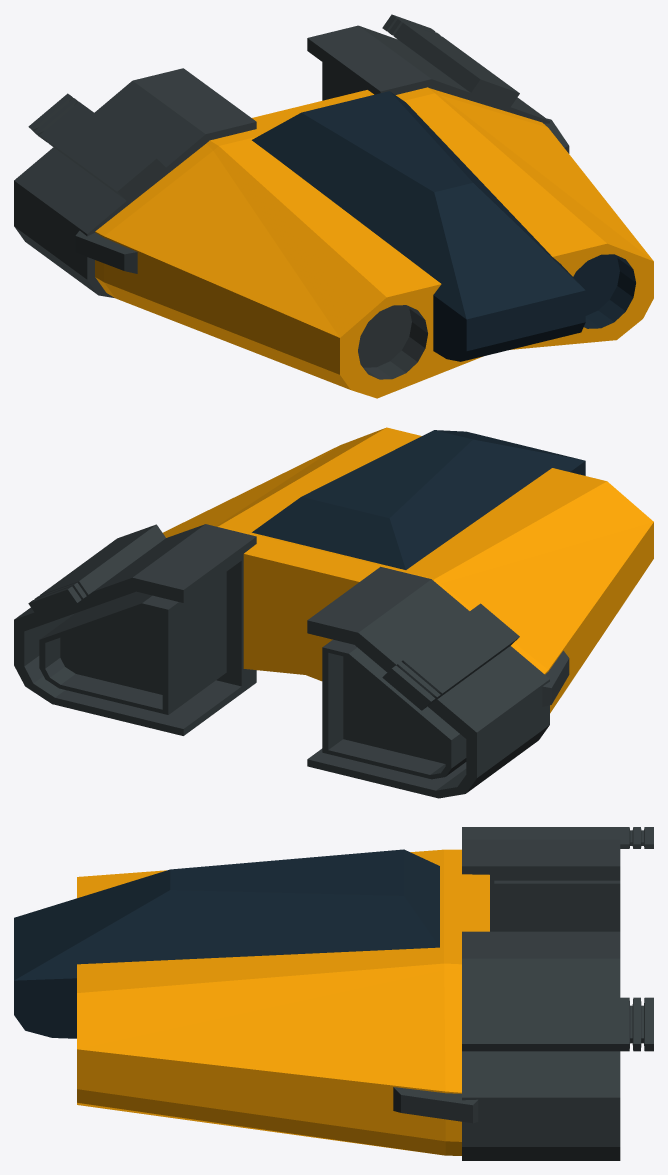
The model's file is SpaceShip(lvl1).fbx.
3 renders of one model, top to bottom at view 1: azimuth 30°, elevation 25°; view 2: azimuth 150°, elevation 25°; view 3: azimuth 270°, elevation 25°, orthographic. The views are drawn at different scales.
Visible parts, largest first — view 1: Cube.023; view 2: Cube.023; view 3: Cube.023.
Part boxes in pixels (x1=…): Cube.023: x1=14, y1=14, x2=653, y2=398; Cube.023: x1=14, y1=427, x2=653, y2=798; Cube.023: x1=14, y1=827, x2=653, y2=1160.
Size of the model in its own units: 4.47 by 1.53 by 4.82.
